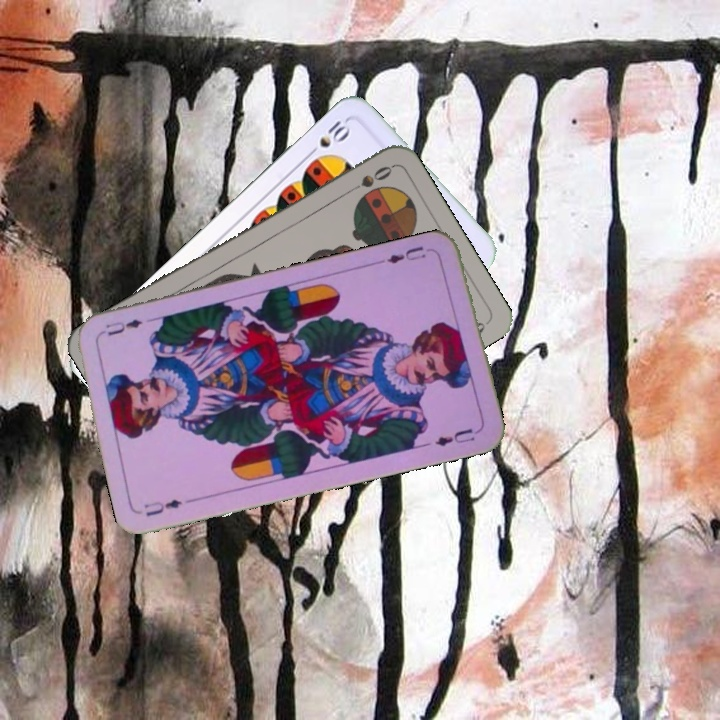EU: (383, 241, 428, 266), (140, 495, 185, 519)
S10: (302, 115, 354, 160)
SO: (340, 161, 395, 198)
